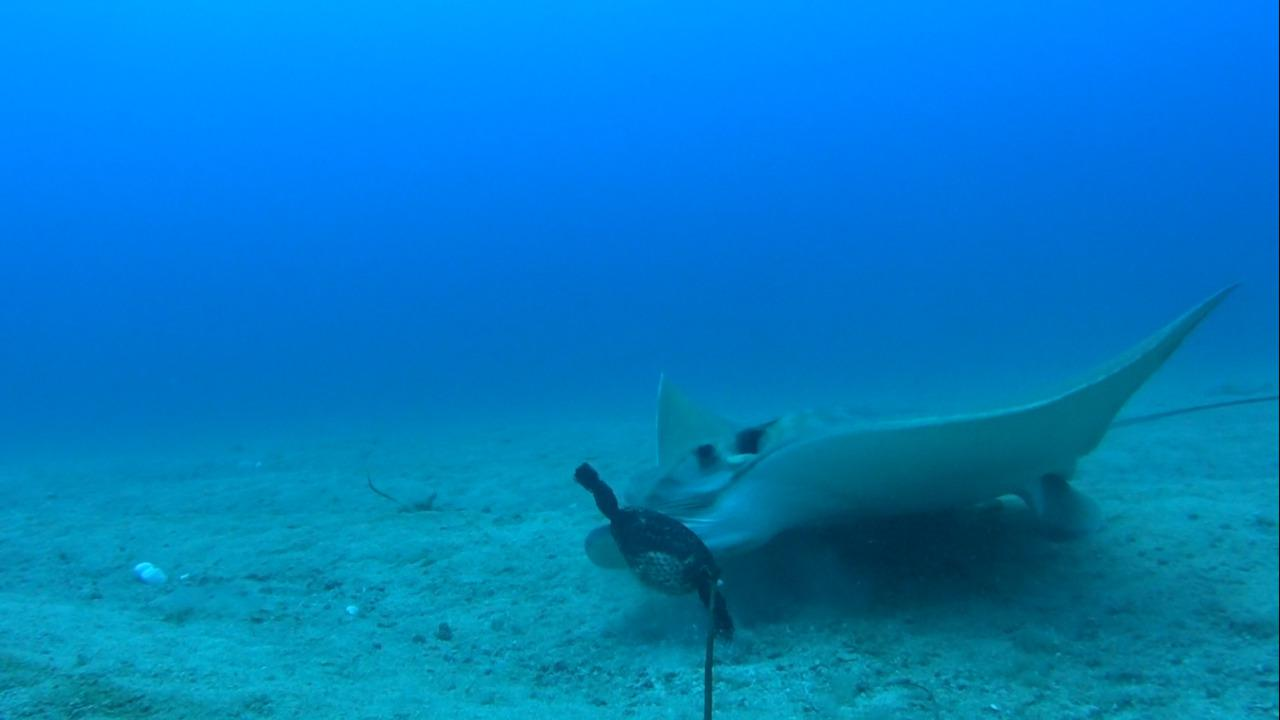myliobatis: (579, 278, 1279, 598)
